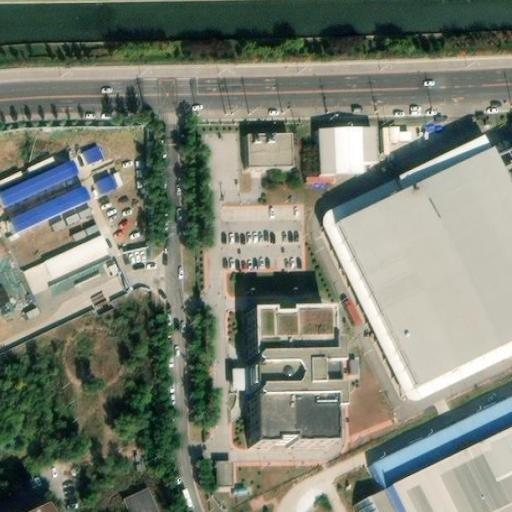building: (337, 145, 512, 388), (325, 176, 512, 402), (372, 395, 512, 489), (241, 309, 327, 447), (371, 428, 512, 512), (398, 134, 492, 189), (24, 236, 109, 292), (0, 157, 78, 207), (12, 184, 91, 233), (317, 126, 378, 173), (248, 133, 292, 164), (378, 119, 417, 150), (0, 495, 52, 512), (123, 489, 159, 512), (215, 460, 231, 484), (82, 146, 101, 164), (230, 365, 244, 387), (98, 175, 115, 191)
